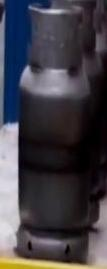cylinder: (1, 0, 107, 269)
